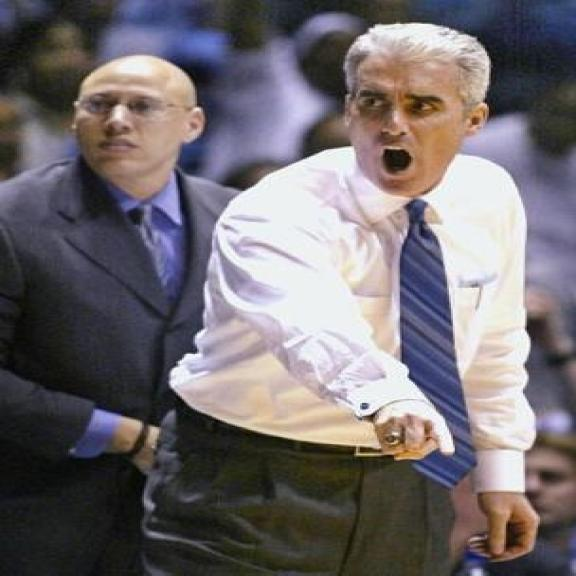face: (335, 55, 490, 200), (68, 82, 206, 176)
